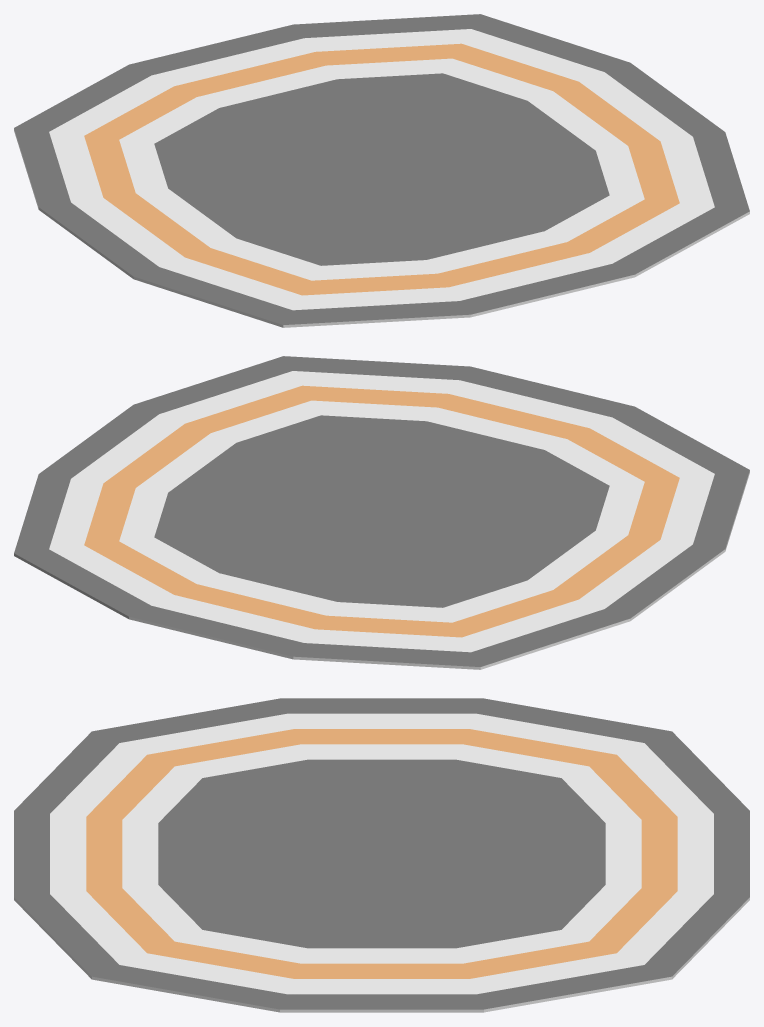
File: Carpet_21.fbx
3 renders of one model, top to bottom at view 1: azimuth 30°, elevation 25°; view 2: azimuth 150°, elevation 25°; view 3: azimuth 270°, elevation 25°, orthographic. The views are drawn at different scales.
Visible parts, largest first — view 1: Carpet_21; view 2: Carpet_21; view 3: Carpet_21.
Boxes of the visible parts, x1,y1,x2,y2 form: Carpet_21: [14, 14, 749, 327]; Carpet_21: [14, 356, 749, 669]; Carpet_21: [14, 698, 749, 1012].
Bounding box in the file's own units: 1.46 × 0.0065 × 1.46.
